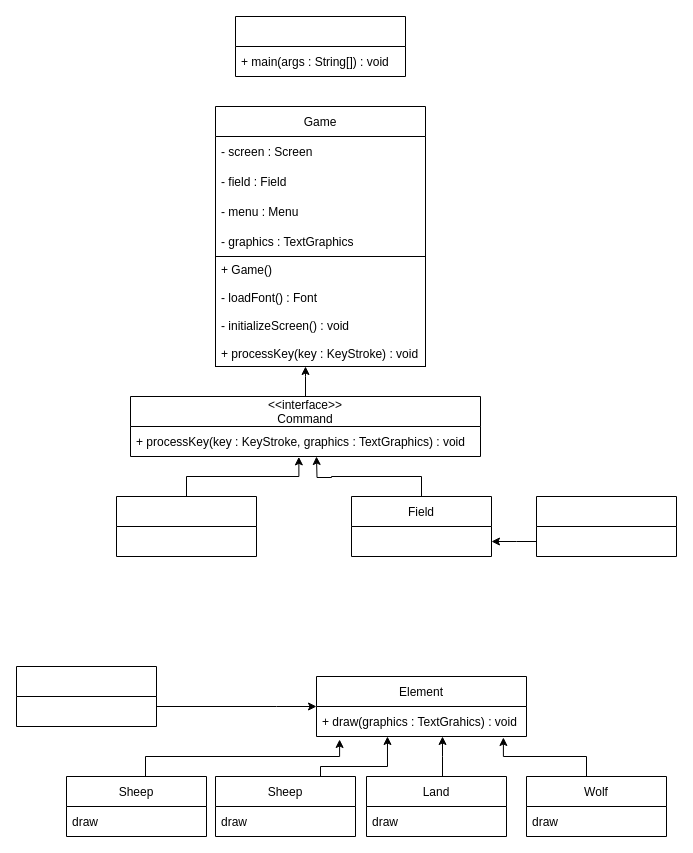
Image size: 693x853. Some labels were removed from this diagram. Here are the shapes that lost their labels. From the top down, the box of each, then its label:
(234, 16, 406, 76): Application
(116, 496, 256, 556): Menu
(536, 496, 676, 556): Fence
(16, 666, 156, 726): Position
